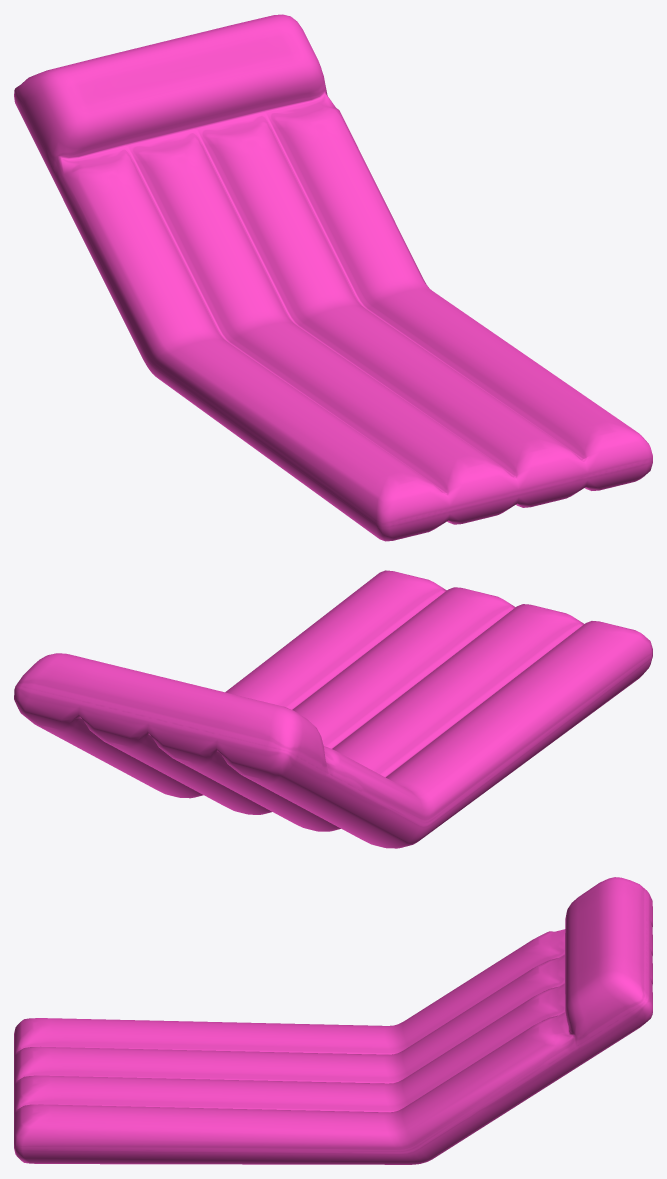
The model's file is PoolFloat06_2.FBX.
3 renders of one model, top to bottom at view 1: azimuth 30°, elevation 25°; view 2: azimuth 150°, elevation 25°; view 3: azimuth 270°, elevation 25°, orthographic. The views are drawn at different scales.
Parts seen in each view (by area): view 1: PoolFloat06_2; view 2: PoolFloat06_2; view 3: PoolFloat06_2.
Part boxes in pixels (box(x1,y1,x2,y2)): PoolFloat06_2: box(14, 14, 652, 541); PoolFloat06_2: box(14, 570, 652, 848); PoolFloat06_2: box(14, 877, 652, 1164).
Size of what is drawn, in the model's own units: 0.8 by 0.6177 by 1.87.
